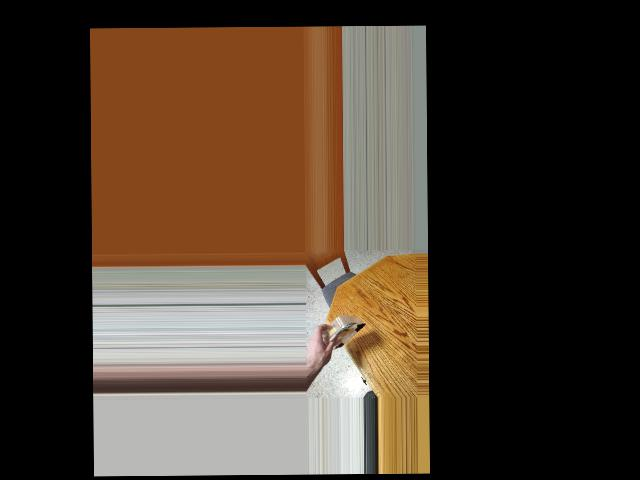cheese: (320, 304, 360, 355)
